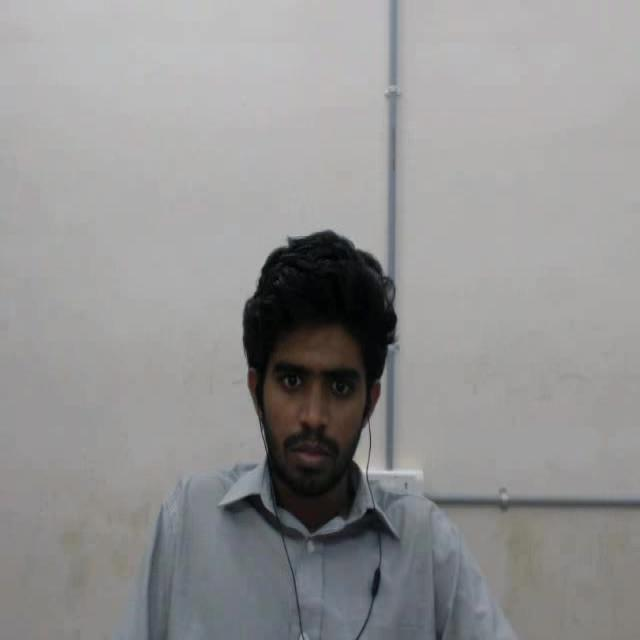Engaged: (222, 210, 436, 516)
